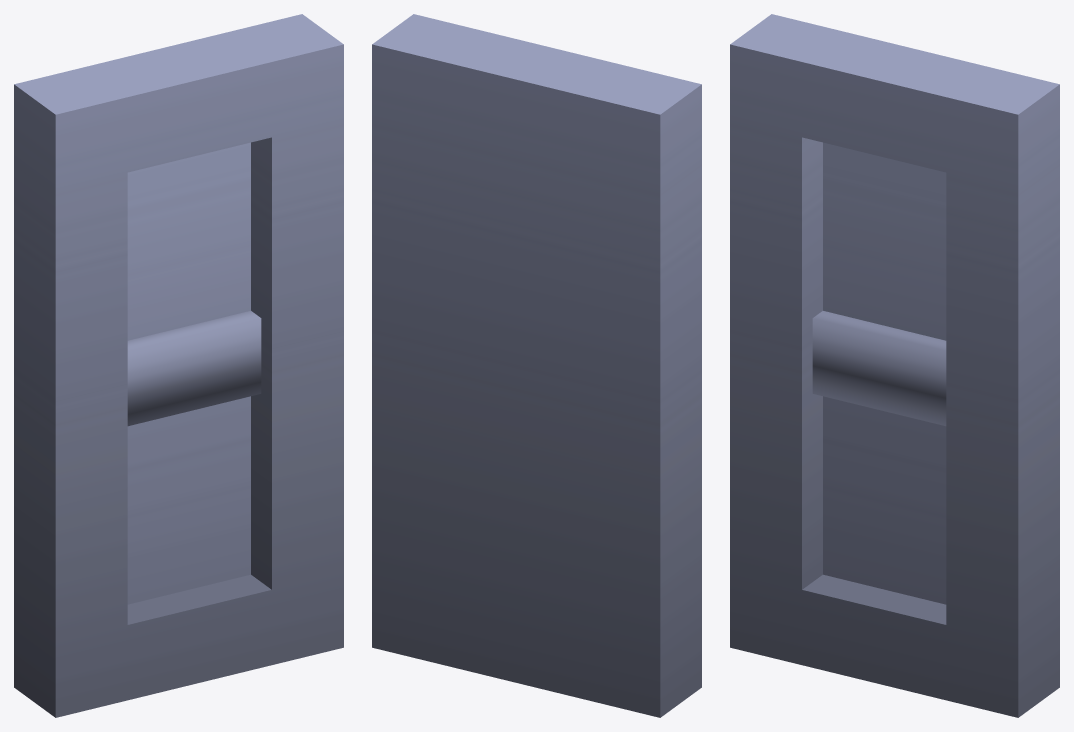
The model's file is glb.glb.
3 renders of one model, left to right at view 1: azimuth 30°, elevation 25°; view 2: azimuth 150°, elevation 25°; view 3: azimuth 330°, elevation 25°, orthographic.
Visible parts, largest first — view 1: Asset3DLoader.sceneRoot; view 2: Asset3DLoader.sceneRoot; view 3: Asset3DLoader.sceneRoot.
Boxes of the visible parts, x1,y1,x2,y2 form: Asset3DLoader.sceneRoot: [14, 14, 343, 717]; Asset3DLoader.sceneRoot: [372, 14, 701, 717]; Asset3DLoader.sceneRoot: [730, 14, 1059, 717].
Bounding box in the file's own units: 0.4 × 0.8 × 0.1.
1 material, 1 textured.
